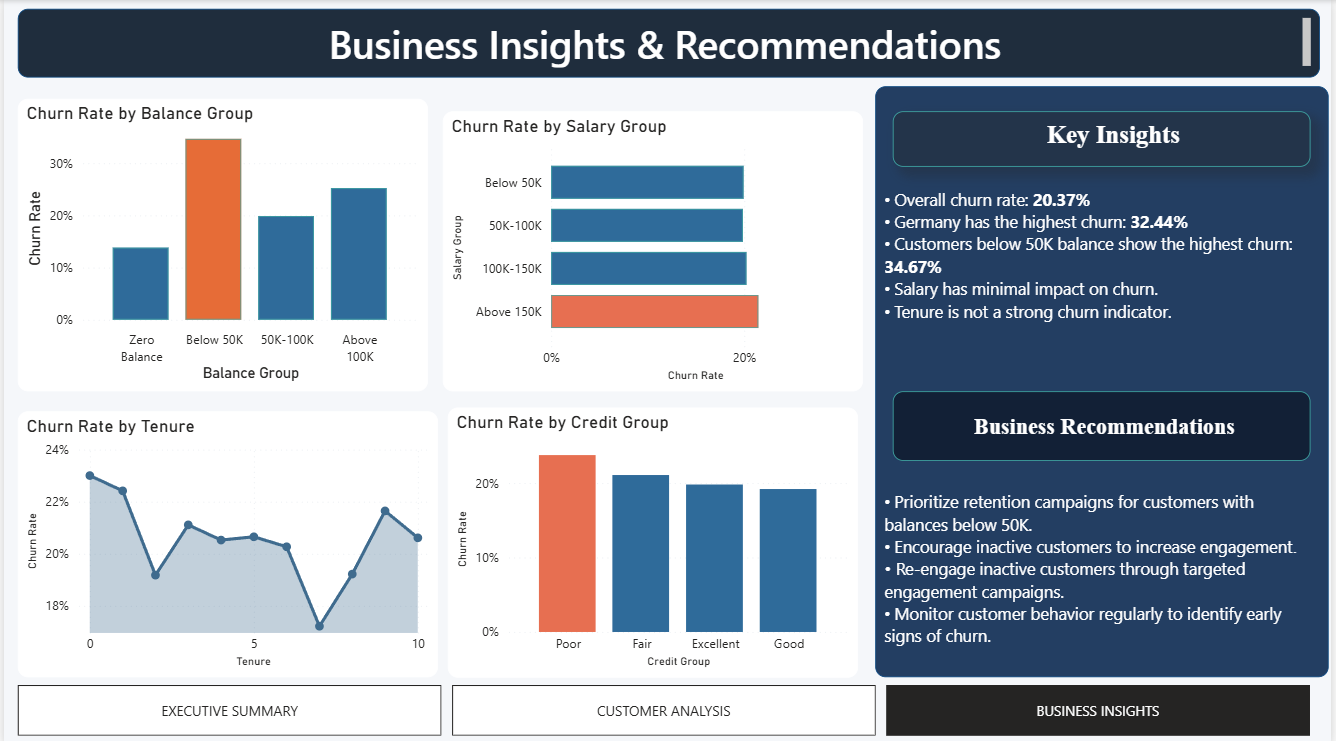

This screenshot's page, from the dashboard's own definition file:
{"tool":"powerbi","page":{"name":"BUSINESS INSIGHTS","canvas":[1280,720],"ordinal":2},"visuals":[{"type":"clusteredColumnChart","fields":{"Category":["Bank_Churn.Balance Group"],"Y":["Bank_Churn.Churn Rate"]},"box":[13.3,95.3,395.7,282.3],"z":0},{"type":"textbox","box":[13.3,8.4,1257.1,73.6],"z":1000},{"type":"clusteredBarChart","fields":{"Category":["Bank_Churn.Salary Group"],"Y":["Bank_Churn.Churn Rate"]},"box":[423.5,107.4,405.4,270.2],"z":2000},{"type":"lineChart","fields":{"Category":["Bank_Churn.Tenure"],"Y":["Bank_Churn.Churn Rate"]},"box":[13.3,396.9,405.4,257],"z":3000},{"type":"clusteredColumnChart","fields":{"Category":["Bank_Churn.Credit Group"],"Y":["Bank_Churn.Churn Rate"]},"box":[428.3,393.3,395.7,260.6],"z":4000},{"type":"textbox","title":"Key Insights","box":[840.9,95.3,437.9,558.6],"z":5000},{"type":"textbox","box":[857.2,107.6,403.5,53.8],"z":6000},{"type":"textbox","box":[857.8,377.6,403,67.6],"z":7000},{"type":"pageNavigator","box":[13.3,661.1,1247.5,49.5],"z":8000}]}

Visuals, with their boxes in screenshot pixels (x1, y1, x2, y2), scaled from the page's 1280x720 canvas onto the 1336x741 screenshot:
clusteredColumnChart - Bank_Churn.Balance Group x Bank_Churn.Churn Rate: {"left": 14, "top": 98, "right": 427, "bottom": 389}
textbox: {"left": 14, "top": 9, "right": 1326, "bottom": 84}
clusteredBarChart - Bank_Churn.Salary Group x Bank_Churn.Churn Rate: {"left": 442, "top": 111, "right": 865, "bottom": 389}
lineChart - Bank_Churn.Tenure x Bank_Churn.Churn Rate: {"left": 14, "top": 408, "right": 437, "bottom": 673}
clusteredColumnChart - Bank_Churn.Credit Group x Bank_Churn.Churn Rate: {"left": 447, "top": 405, "right": 860, "bottom": 673}
"Key Insights" textbox: {"left": 878, "top": 98, "right": 1335, "bottom": 673}
textbox: {"left": 895, "top": 111, "right": 1316, "bottom": 166}
textbox: {"left": 895, "top": 389, "right": 1316, "bottom": 458}
pageNavigator: {"left": 14, "top": 680, "right": 1316, "bottom": 731}
